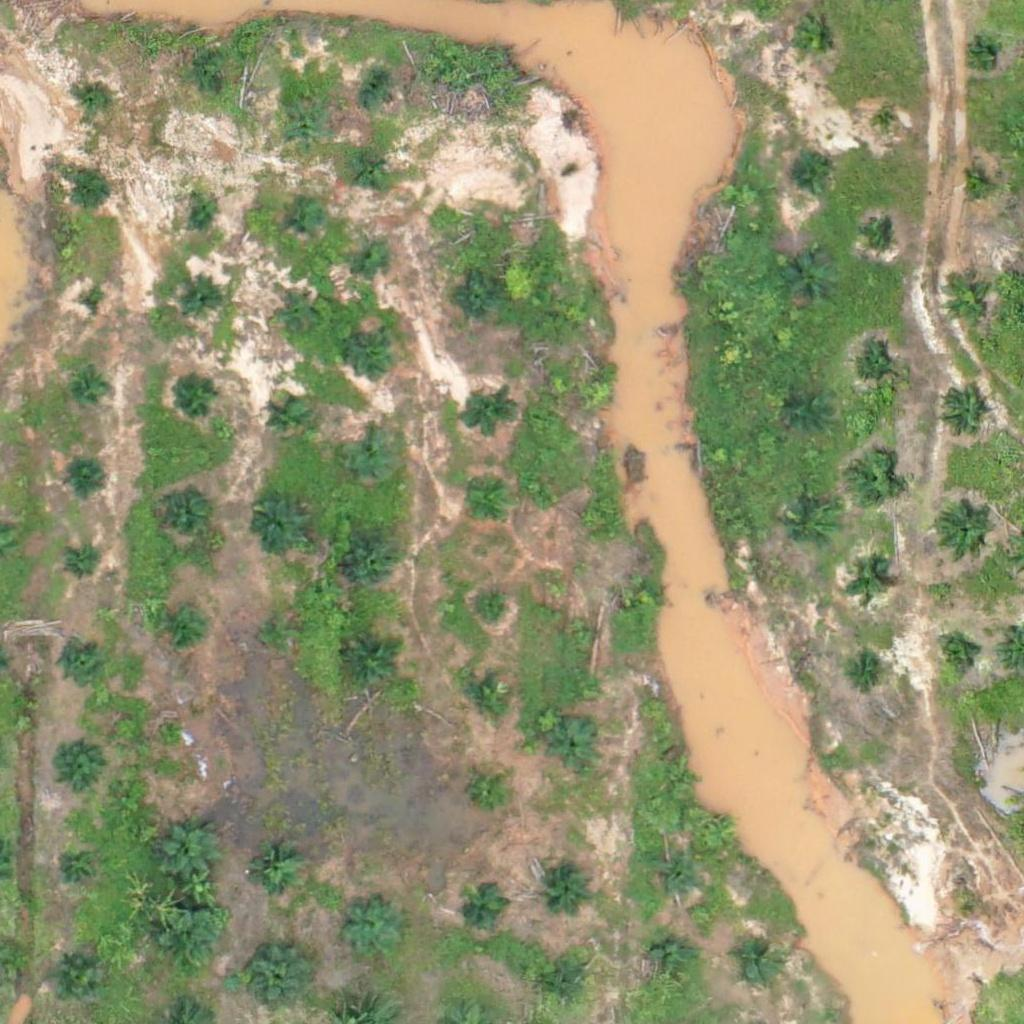Kelapa_Sawit: (245, 492, 308, 555), (243, 845, 306, 908), (247, 945, 310, 1008), (342, 428, 405, 491), (157, 821, 220, 884), (341, 897, 403, 960), (159, 910, 221, 973), (934, 499, 996, 562), (349, 535, 399, 586), (348, 638, 398, 689), (54, 740, 104, 791), (459, 670, 509, 721), (943, 276, 993, 327), (789, 15, 839, 66), (161, 489, 211, 540), (173, 370, 223, 421), (350, 326, 400, 376), (50, 950, 100, 1000), (543, 858, 593, 908), (461, 883, 511, 933), (650, 853, 700, 903), (549, 722, 599, 772), (646, 938, 696, 988), (732, 937, 782, 987), (540, 962, 590, 1012), (54, 842, 104, 892), (851, 347, 901, 397), (849, 456, 899, 506), (938, 389, 988, 439), (463, 390, 513, 440), (461, 480, 511, 530), (785, 255, 835, 305), (454, 275, 504, 325), (787, 506, 837, 556), (658, 760, 696, 798), (470, 771, 508, 809), (848, 561, 886, 599), (849, 652, 887, 690), (936, 635, 974, 673), (562, 612, 600, 650), (572, 499, 610, 537), (578, 374, 616, 412), (789, 156, 827, 194), (76, 78, 114, 116), (70, 464, 108, 502), (64, 544, 102, 582), (188, 192, 226, 230), (356, 234, 394, 272), (356, 147, 394, 185), (355, 72, 393, 110), (164, 608, 202, 646), (626, 574, 663, 612), (789, 394, 826, 432), (66, 173, 104, 210), (75, 289, 113, 326), (72, 373, 110, 410), (184, 276, 222, 313), (199, 72, 236, 110), (284, 109, 321, 147), (289, 201, 326, 239), (279, 297, 316, 335), (260, 614, 297, 652), (61, 640, 98, 678), (472, 593, 509, 630), (270, 401, 307, 438), (969, 42, 994, 67), (962, 172, 987, 197), (874, 111, 899, 136), (868, 223, 893, 248)
